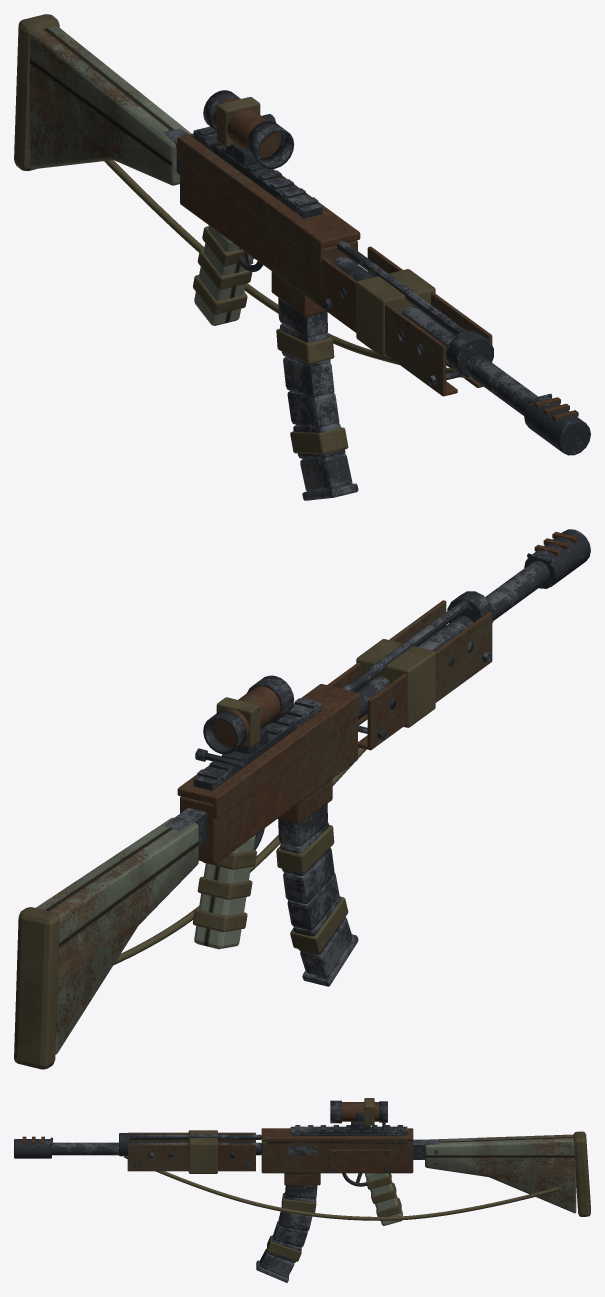
Rendered from wpn_badger.gltf.
The picture shows the model from 3 angles, top to bottom: view 1: azimuth 30°, elevation 25°; view 2: azimuth 150°, elevation 25°; view 3: azimuth 270°, elevation 25°; orthographic projection. The views are drawn at different scales.
Visible parts, largest first — view 1: wpn_badger_gun_scrap_metal_01, wpn_badger_gun_steel_01, wpn_badger_gun_scrap_wood_01, wpn_badger_gun_cloth_01; view 2: wpn_badger_gun_scrap_metal_01, wpn_badger_gun_steel_01, wpn_badger_gun_scrap_wood_01, wpn_badger_gun_cloth_01; view 3: wpn_badger_gun_scrap_metal_01, wpn_badger_gun_steel_01, wpn_badger_gun_scrap_wood_01, wpn_badger_gun_cloth_01.
Part boxes in pixels (<box>): wpn_badger_gun_scrap_metal_01: <box>177,98,578,421</box>; wpn_badger_gun_steel_01: <box>163,90,590,500</box>; wpn_badger_gun_scrap_wood_01: <box>29,26,246,325</box>; wpn_badger_gun_cloth_01: <box>14,14,471,454</box>; wpn_badger_gun_scrap_metal_01: <box>177,532,578,864</box>; wpn_badger_gun_steel_01: <box>163,529,590,986</box>; wpn_badger_gun_scrap_wood_01: <box>36,817,255,1054</box>; wpn_badger_gun_cloth_01: <box>14,639,435,1069</box>; wpn_badger_gun_scrap_metal_01: <box>22,1102,413,1185</box>; wpn_badger_gun_steel_01: <box>14,1100,439,1282</box>; wpn_badger_gun_scrap_wood_01: <box>365,1134,576,1225</box>; wpn_badger_gun_cloth_01: <box>124,1098,590,1261</box>.
Size of the model in its own units: 0.0658 by 0.3374 by 0.9901.
Materials: 4 (4 with a texture image).
